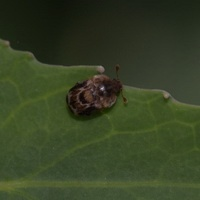insect: (67, 74, 121, 114)
